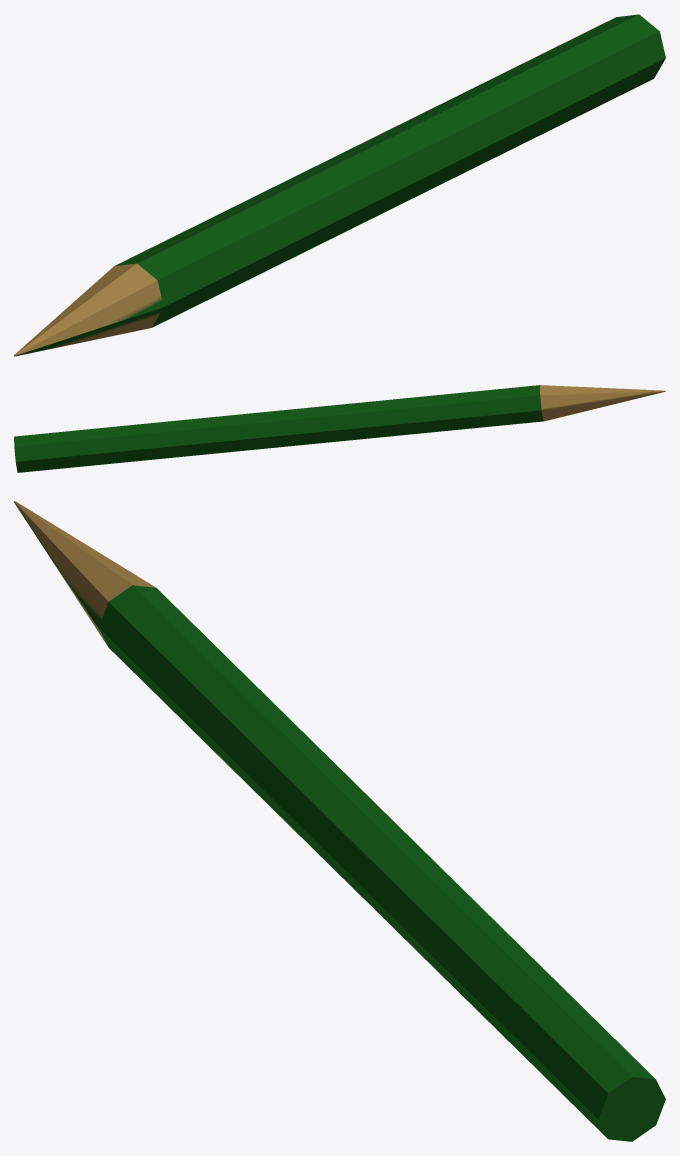
The model's file is Pencil_Text.fbx.
3 renders of one model, top to bottom at view 1: azimuth 30°, elevation 25°; view 2: azimuth 150°, elevation 25°; view 3: azimuth 270°, elevation 25°, orthographic. The views are drawn at different scales.
Visible parts, largest first — view 1: Pencil; view 2: Pencil; view 3: Pencil.
Part boxes in pixels (bbox=[...]): Pencil: bbox=[14, 14, 665, 356]; Pencil: bbox=[14, 385, 665, 472]; Pencil: bbox=[14, 501, 665, 1141].
Size of the model in its own units: 17.06 by 2.96 by 9.79.
1 material, 1 textured.
